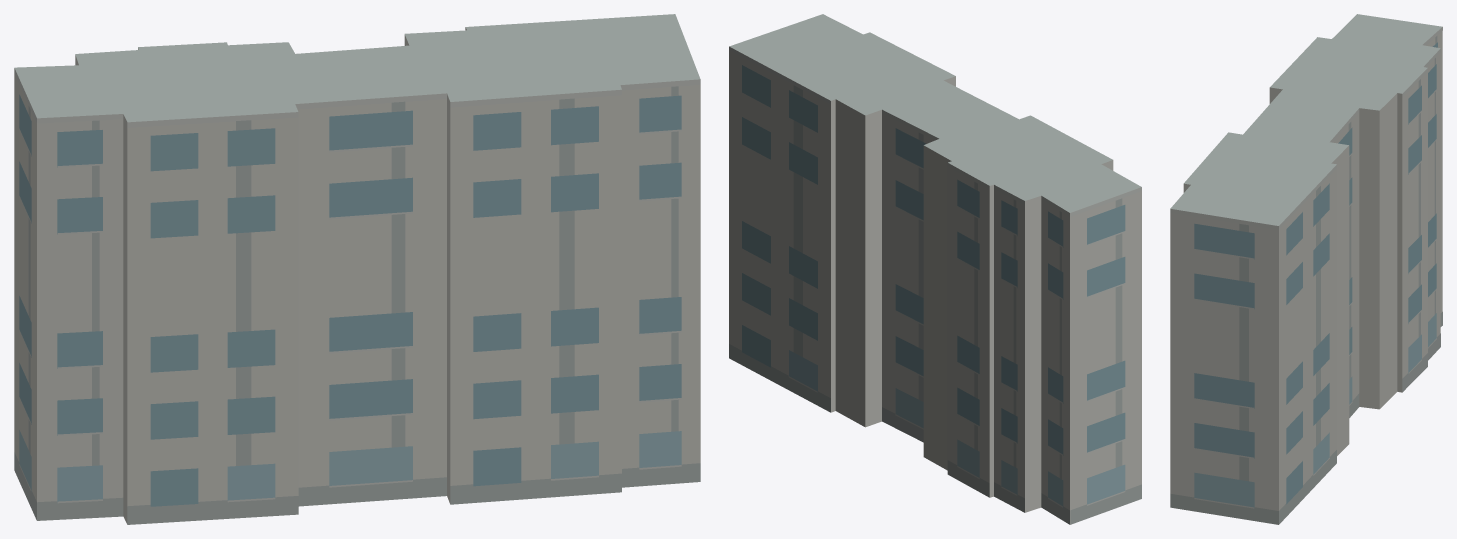
The model's file is survey-upis-32886651.glb.
3 renders of one model, left to right at view 1: azimuth 30°, elevation 25°; view 2: azimuth 150°, elevation 25°; view 3: azimuth 270°, elevation 25°, orthographic. The views are drawn at different scales.
Parts seen in each view (by area): view 1: survey-upis-32886651.tmp; view 2: survey-upis-32886651.tmp; view 3: survey-upis-32886651.tmp.
Part boxes in pixels (x1,y1,x2,y2): survey-upis-32886651.tmp: (14, 14, 700, 524); survey-upis-32886651.tmp: (729, 14, 1141, 524); survey-upis-32886651.tmp: (1170, 14, 1442, 524).
Size of the model in its own units: 27.87 by 18.3 by 15.14.
